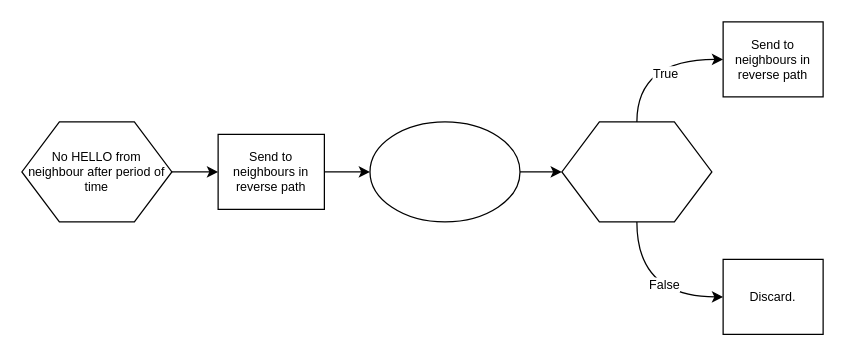
This 845x356 diagram has some shape labels left out. The shapes that lost their labels are listed below. From the top down, each one's centre as x and y in pixels, then its label:
At (x=444, y=171): "RERR Arrives".
At (x=636, y=171): "Reported Node is in one of my cached routes?".
